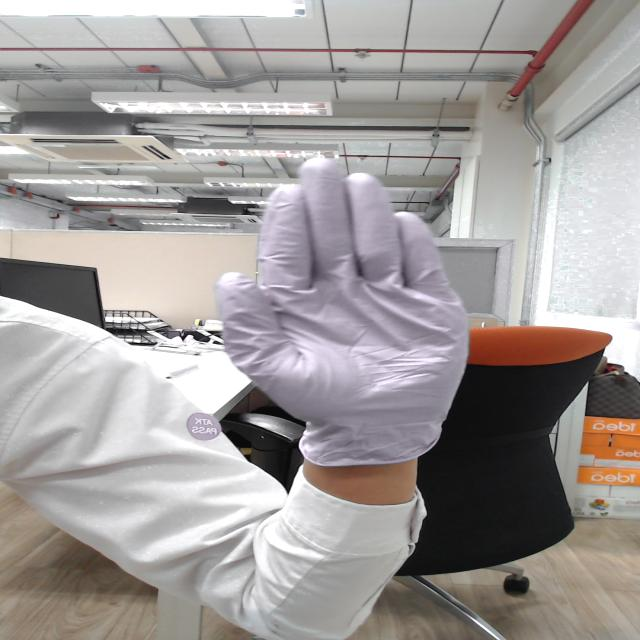glove: (178, 144, 512, 438)
